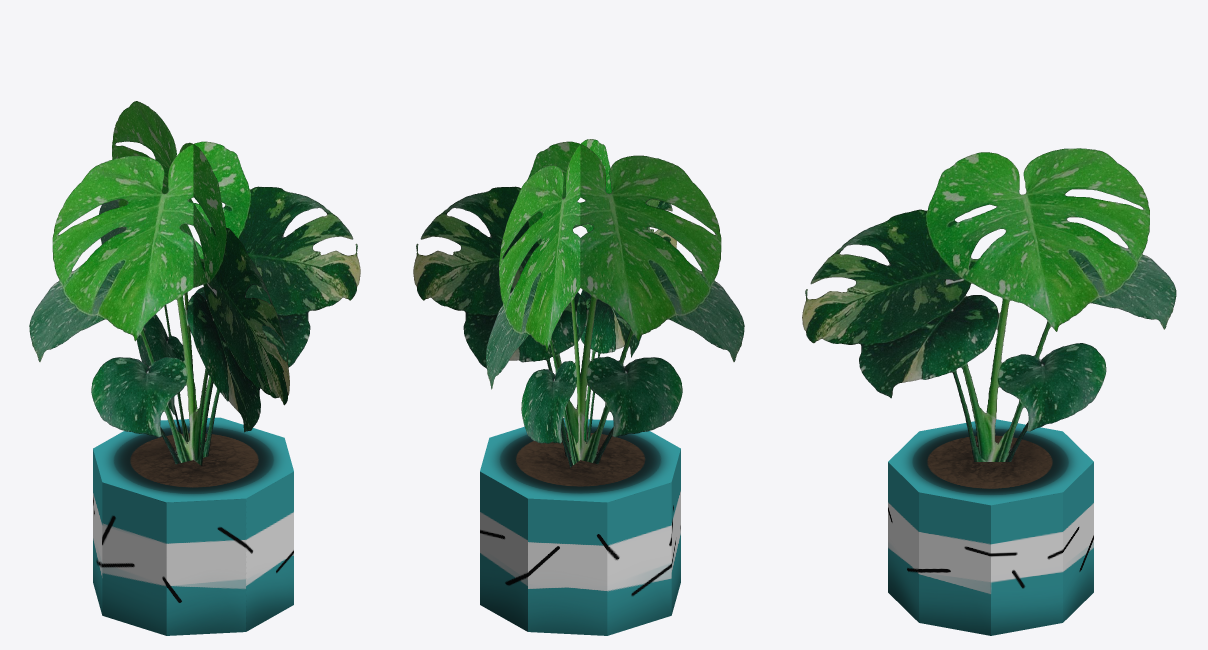
The model's file is plant1.gltf.
3 views of the same model, side by side, from view 1: azimuth 30°, elevation 25°; view 2: azimuth 150°, elevation 25°; view 3: azimuth 270°, elevation 25° (orthographic). The views are drawn at different scales.
Visible parts, largest first — view 1: plant1, vase1; view 2: plant1, vase1; view 3: plant1, vase1.
Part boxes in pixels (x1,y1,x2,y2): plant1: (29,101,360,465); vase1: (93,417,293,635); plant1: (413,139,744,467); vase1: (480,418,680,635); plant1: (802,148,1176,461); vase1: (888,419,1093,635).
Size of the model in its own units: 1.04 by 1.4 by 1.04.
2 materials, 2 textured.
